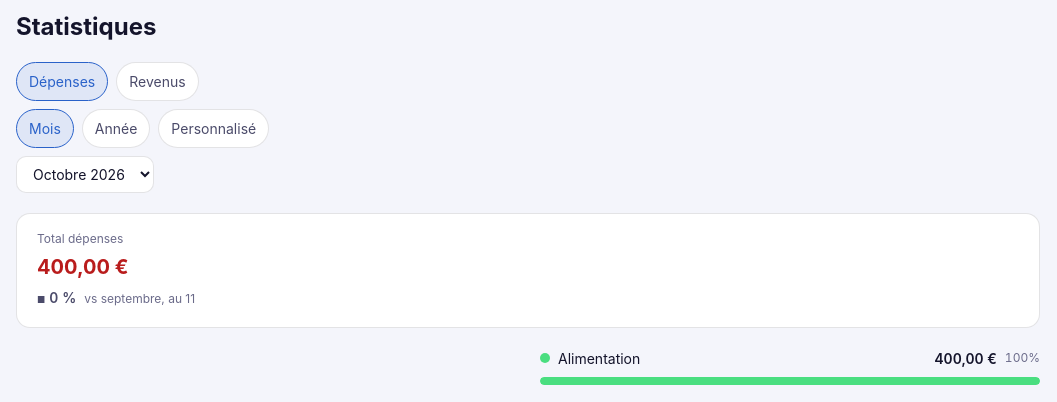
Test: StatsPage › passer aux revenus recharge avec le bon type
Click the button "Revenus": (157, 82) x1=116 y1=62 x2=199 y2=101
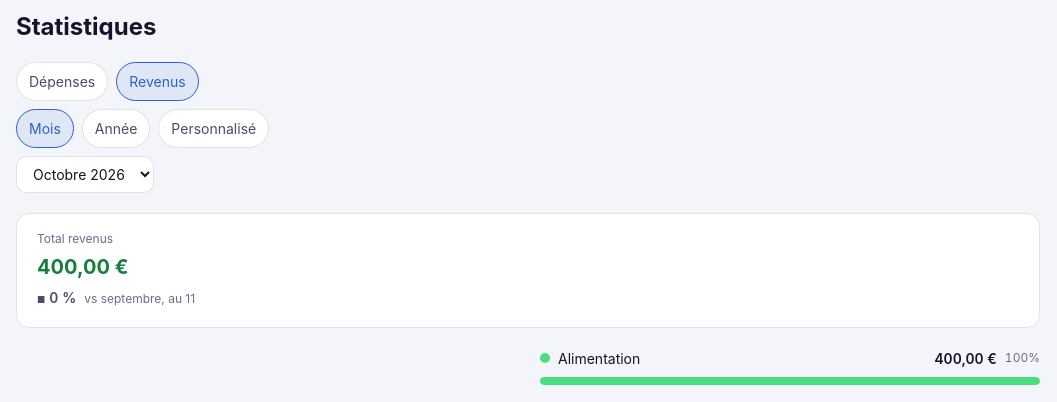
Expected: the text "Total revenus" is shown, x1=37 y1=231 x2=113 y2=246
